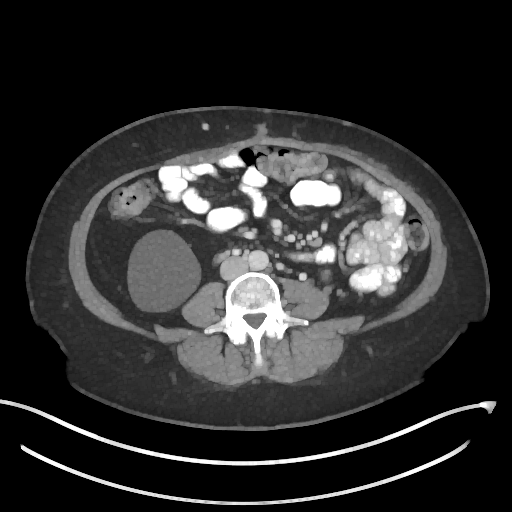Lesion: (124, 225, 203, 316)
